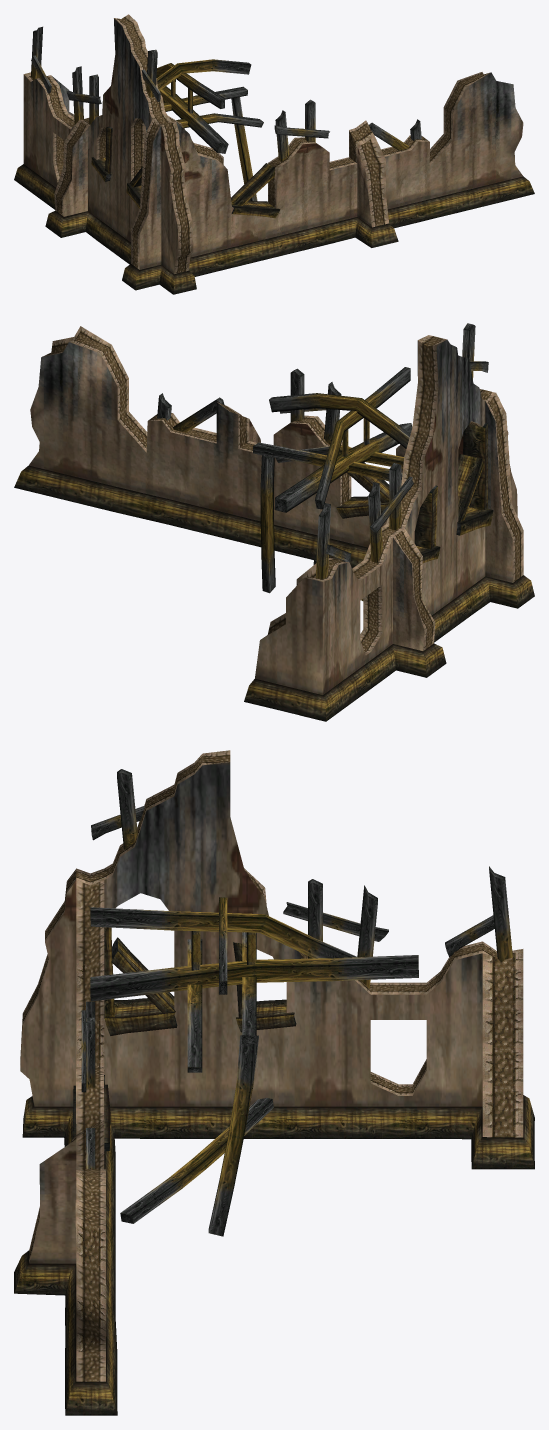
The model's file is CB_BRKN_BUILDING10.fbx.
3 renders of one model, top to bottom at view 1: azimuth 30°, elevation 25°; view 2: azimuth 150°, elevation 25°; view 3: azimuth 270°, elevation 25°, orthographic. The views are drawn at different scales.
Visible parts, largest first — view 1: CB_BRKN_BUILDING10; view 2: CB_BRKN_BUILDING10; view 3: CB_BRKN_BUILDING10.
Boxes of the visible parts, x1,y1,x2,y2 form: CB_BRKN_BUILDING10: (14,14,534,294); CB_BRKN_BUILDING10: (14,323,534,721); CB_BRKN_BUILDING10: (14,750,534,1415).
Bounding box in the file's own units: 330951 × 182887 × 229579.
5 materials, 5 textured.
